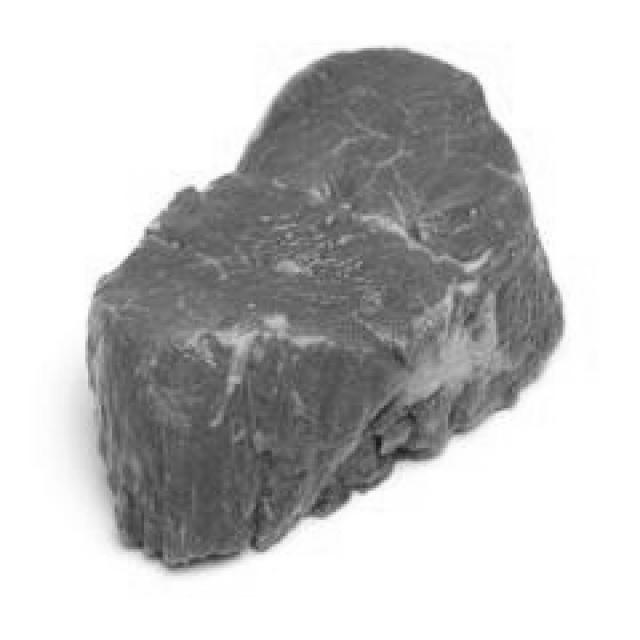beef tenderloin steak: (88, 37, 552, 563)
